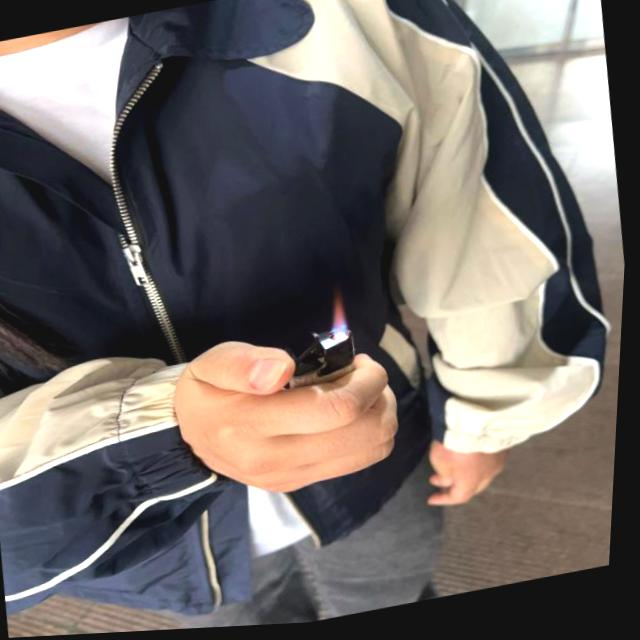helmet: (326, 295, 355, 346)
